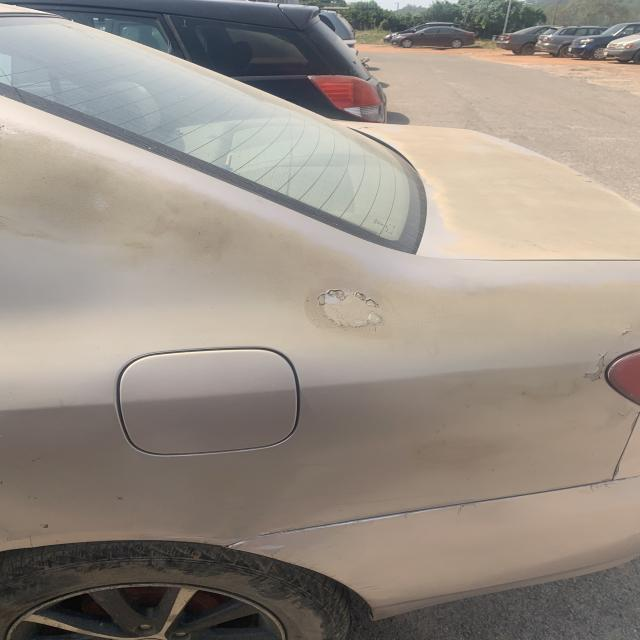paint-chip: (297, 272, 405, 336)
